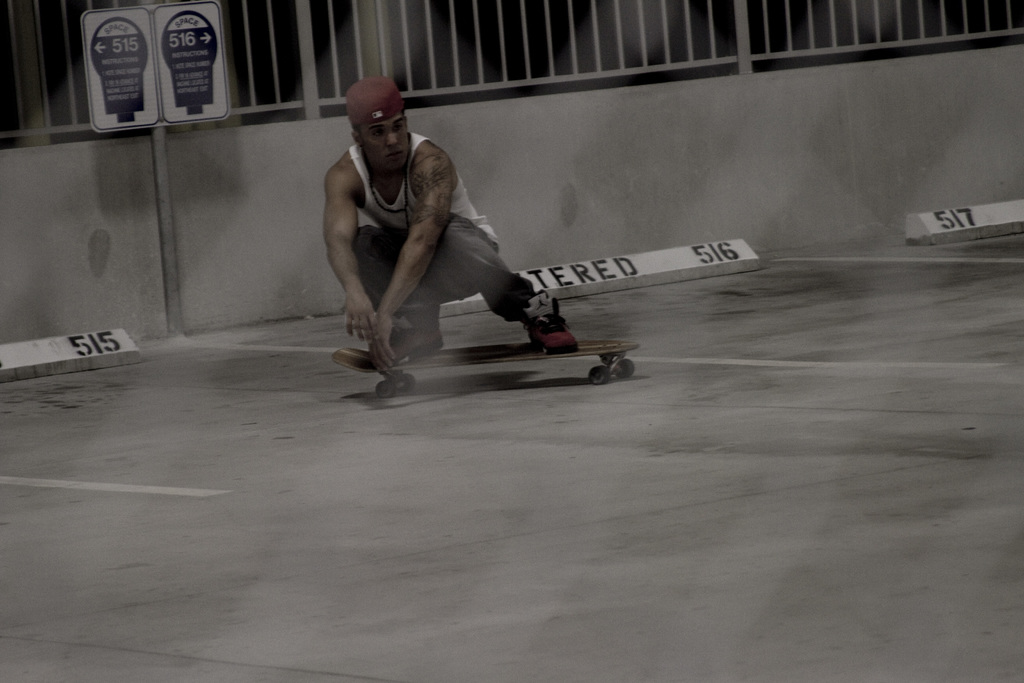Footwear: (518, 287, 580, 356), (389, 323, 447, 359)
